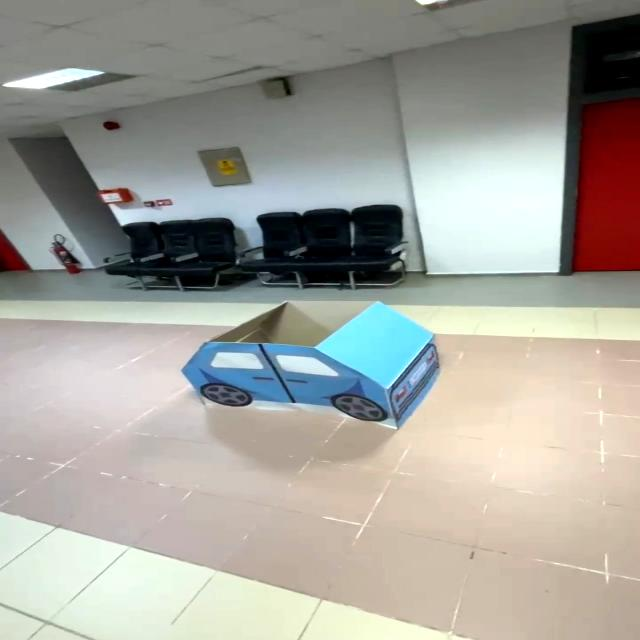blue_car: (165, 283, 458, 452)
